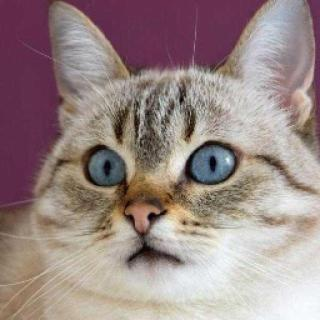cat: (29, 10, 320, 296)
nose: (118, 199, 164, 238)
